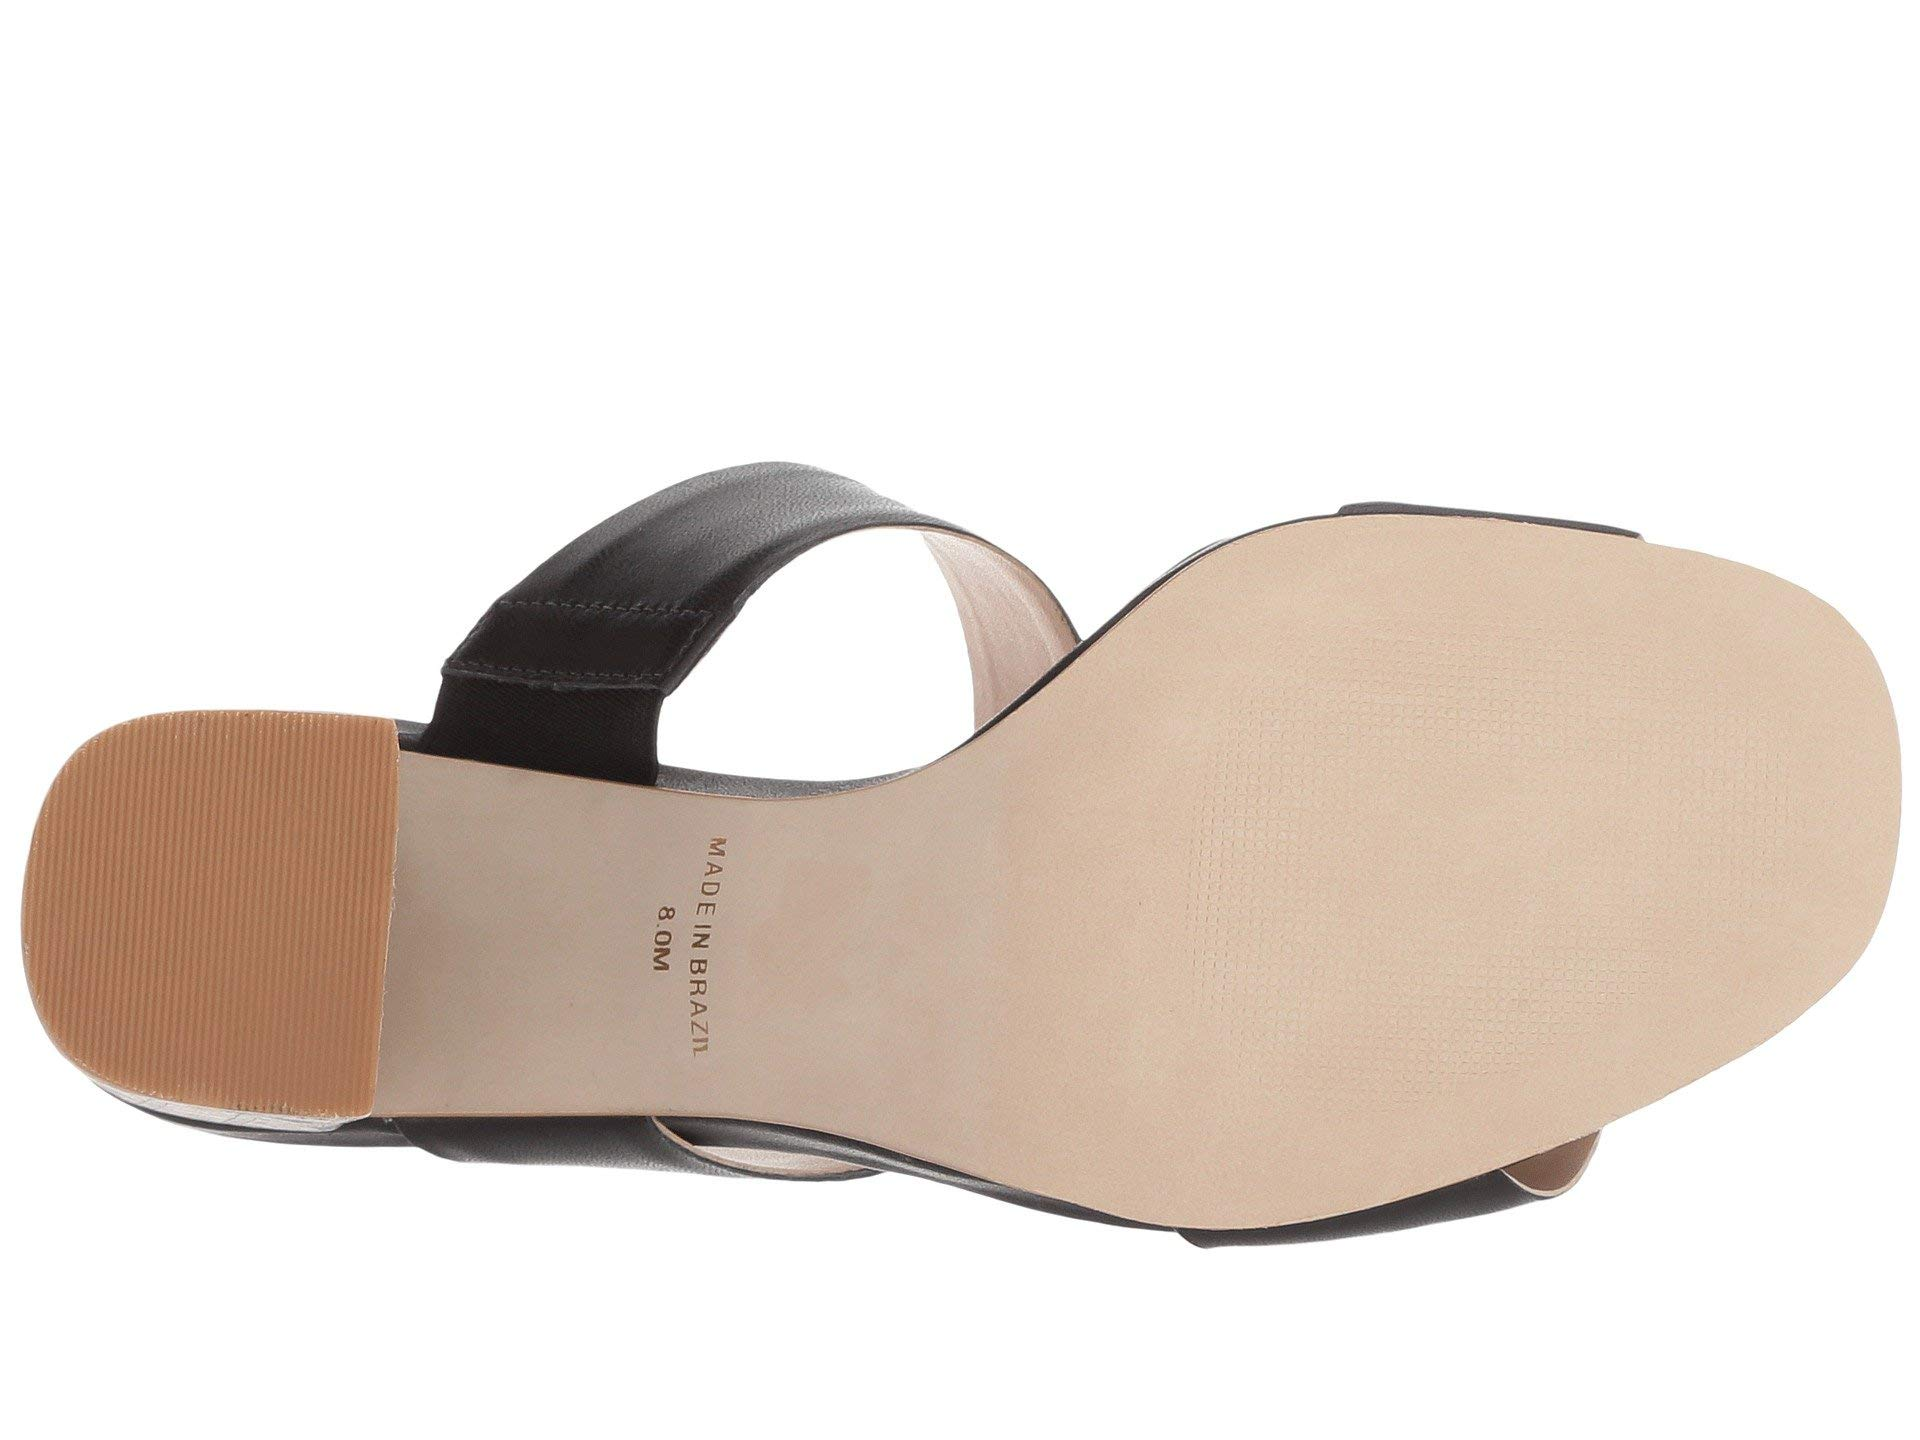circle: (1256, 605, 1826, 1041)
line: (86, 722, 367, 1086)
